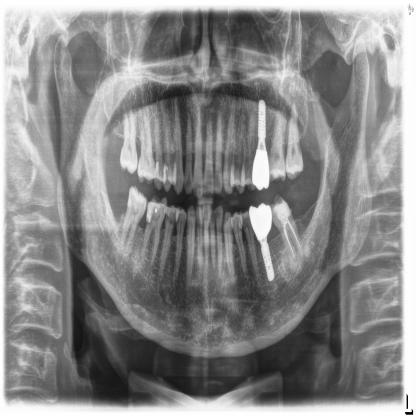ITI: (258, 247, 279, 287), (253, 90, 269, 142)
